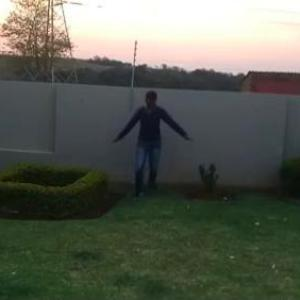land: (109, 89, 192, 204)
